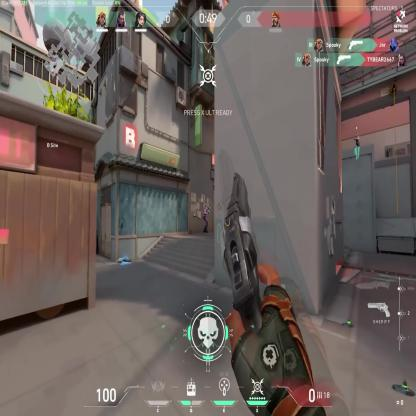enemy: (203, 204, 209, 232)
enemy_head: (205, 204, 207, 209)
